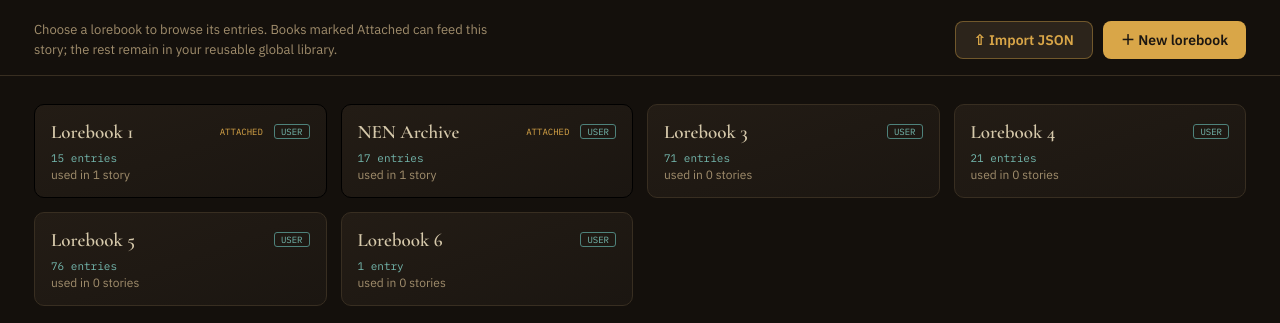
Lorebook — book hierarchy › lists all lorebooks first and fetches only the selected book's entries
The width and height of the screenshot is (1280, 323).
Check: the text "Lorebook 1" is shown, box x1=51 y1=120 x2=134 y2=143
Check: the text "Lorebook 6" is shown, box x1=358 y1=228 x2=443 y2=251
Click the button "NEN Archive ATTACHED USER 17 entries used in 1 story" at (408, 132), box x1=340 y1=104 x2=633 y2=198
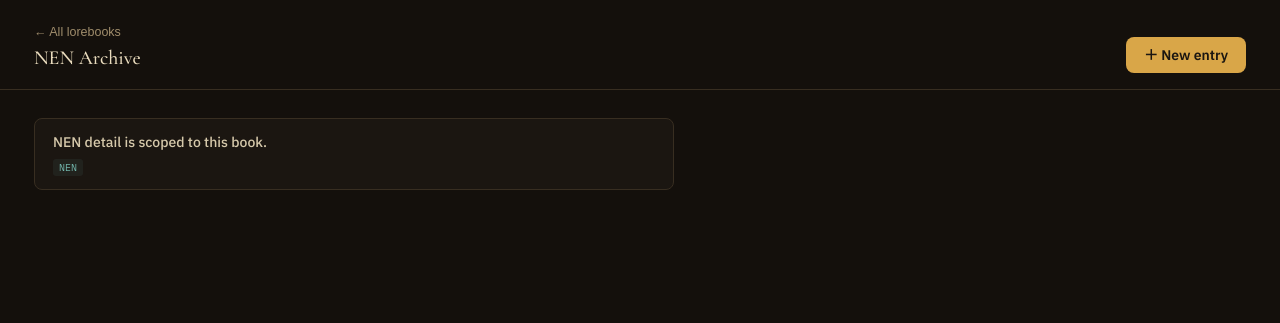
Check: the text "NEN" is shown, box x1=53 y1=159 x2=83 y2=176
Check: the element with test id "lorebook-book-editor" is shown, box x1=0 y1=0 x2=1279 y2=190
